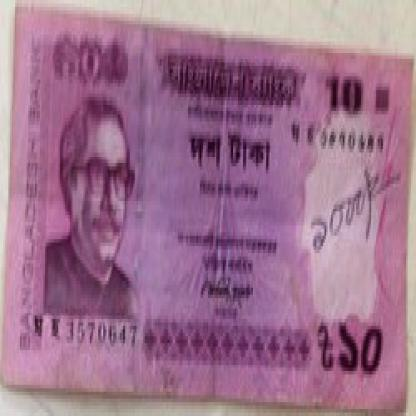Ten Taka: (50, 28, 116, 97), (316, 69, 376, 132), (339, 312, 383, 381)
